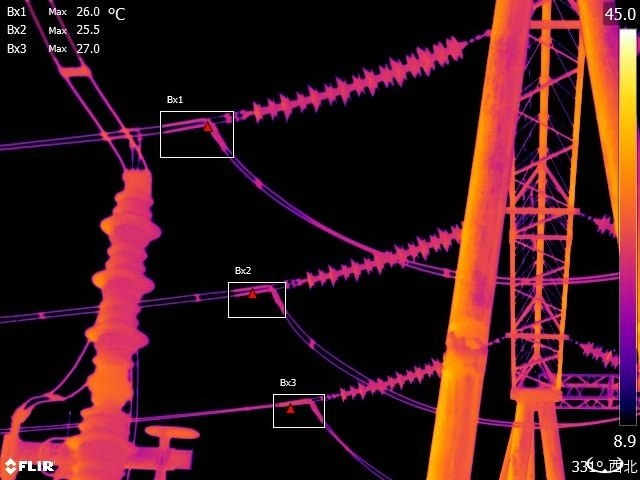clamp: (196, 106, 226, 151), (302, 388, 332, 428), (257, 275, 281, 314)
insulator: (248, 32, 473, 126), (304, 217, 465, 293), (340, 353, 446, 406), (576, 338, 618, 369), (585, 209, 618, 240)
post insulator: (73, 163, 165, 427)
switch: (1, 419, 204, 480)
